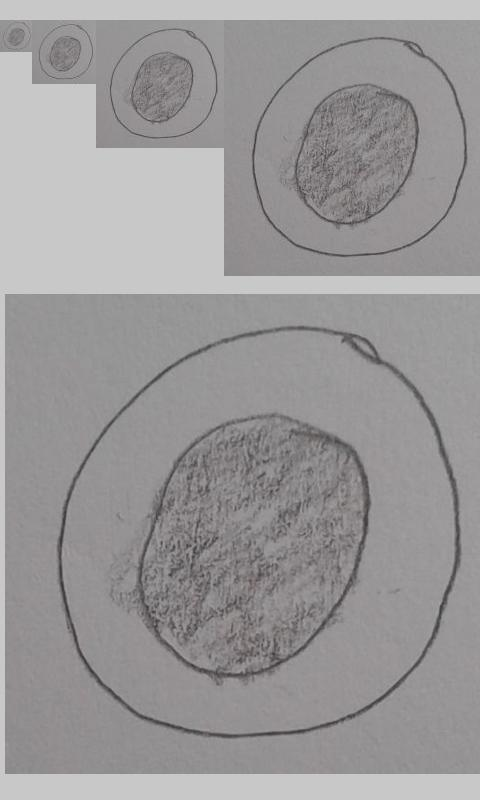radio_button: (53, 320, 464, 742), (249, 34, 470, 258), (108, 27, 219, 140), (37, 23, 94, 81), (2, 21, 31, 51)
